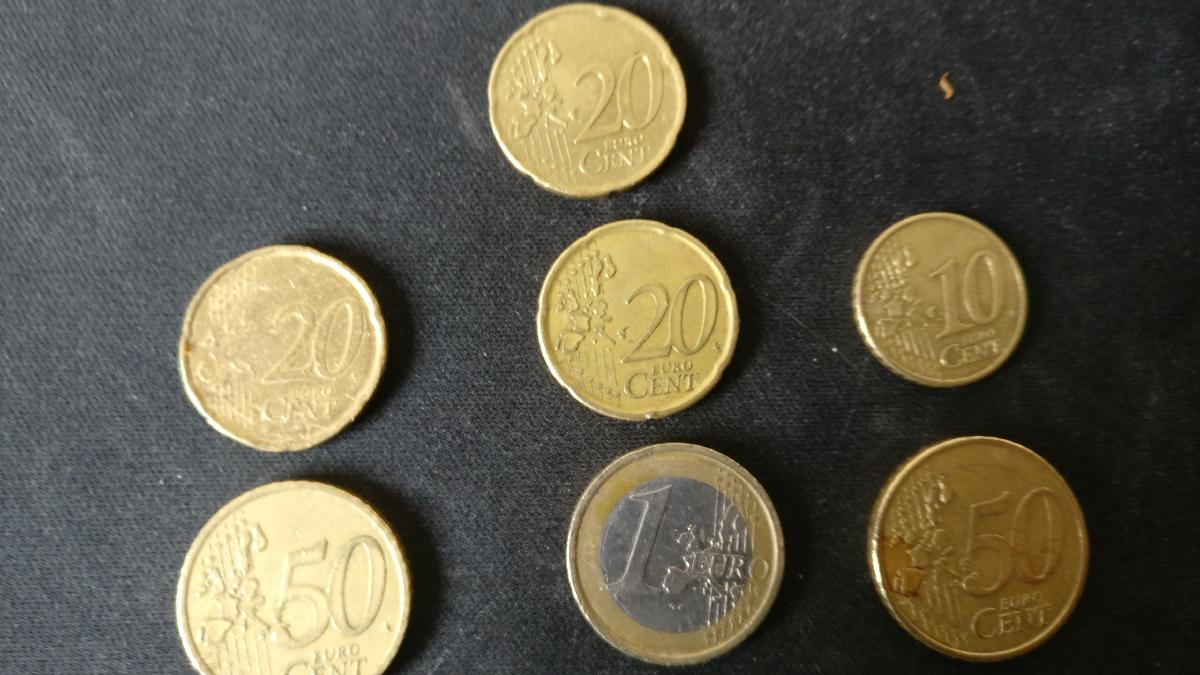Fifty Cent: (865, 435, 1091, 657), (173, 481, 416, 675)
One Euro: (566, 442, 787, 666)
Ten Cent: (852, 208, 1026, 386)
Twenty Cent: (177, 244, 393, 452), (536, 217, 739, 418), (480, 7, 693, 197)
